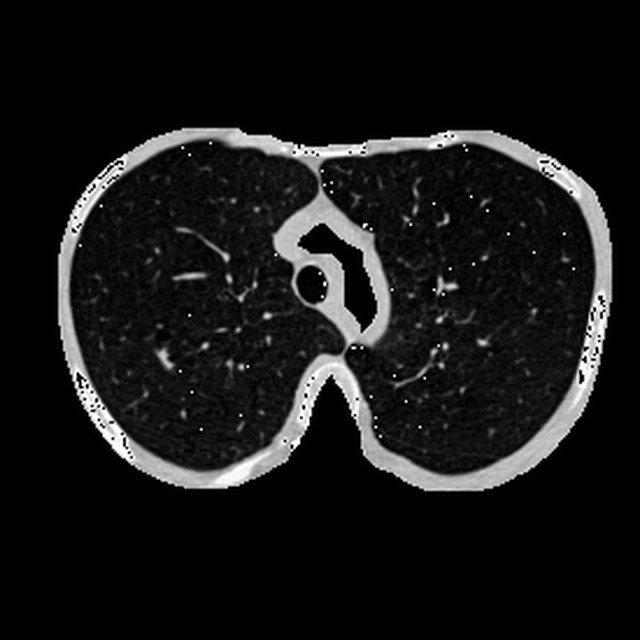PN: (154, 349, 172, 368)
